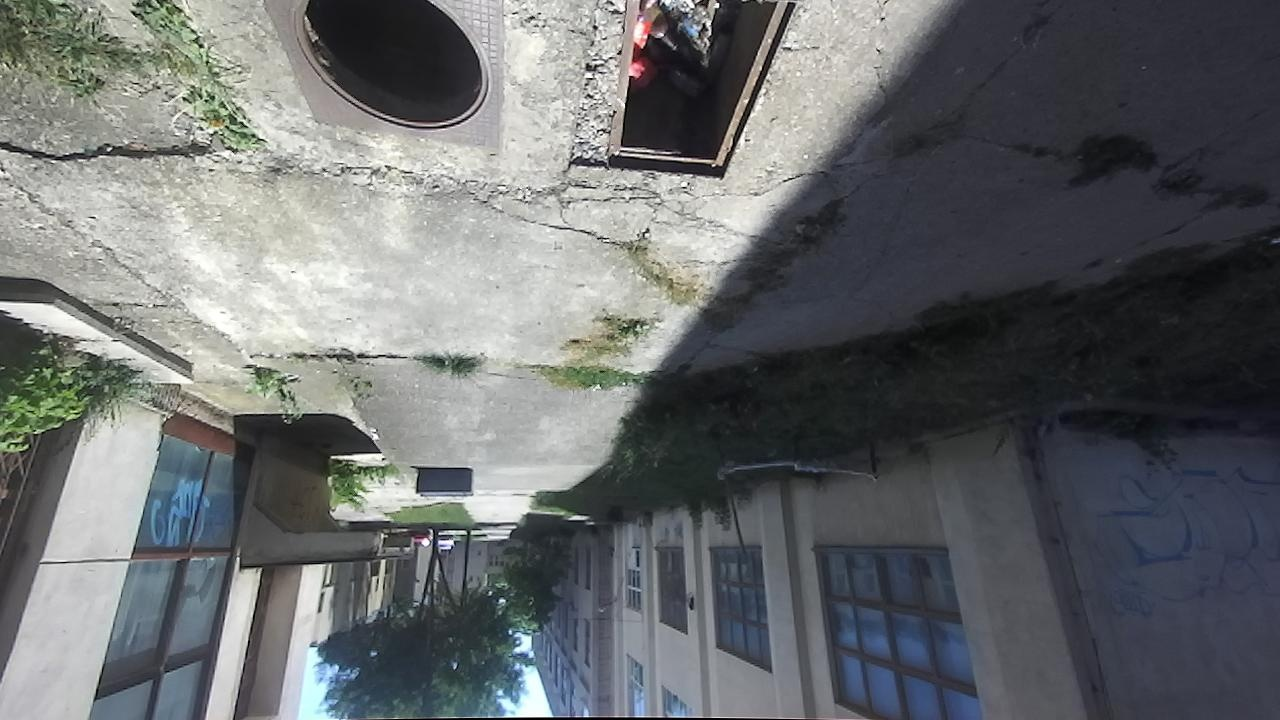drain: (599, 0, 806, 187), (291, 0, 493, 132)
